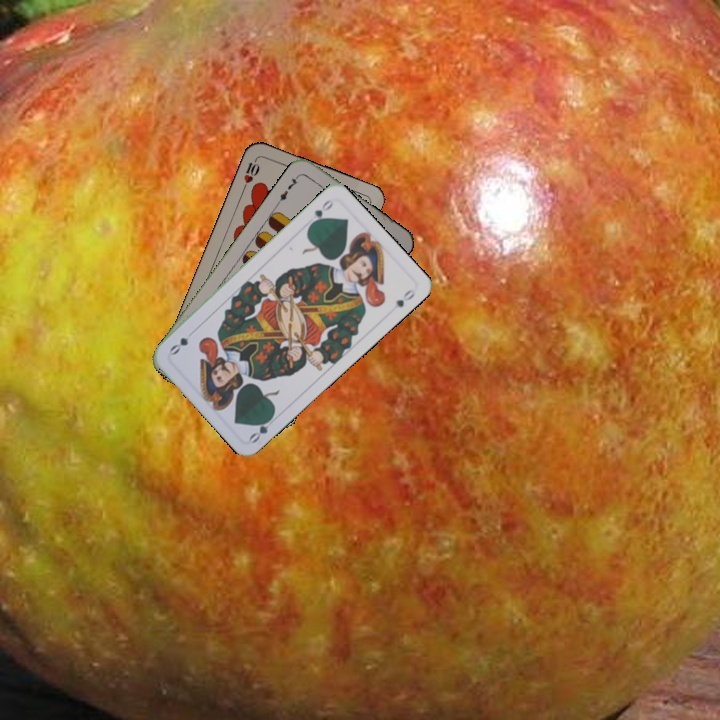E7: (274, 170, 303, 206)
GO: (245, 411, 280, 446), (305, 195, 337, 229)
H10: (239, 153, 262, 192)
